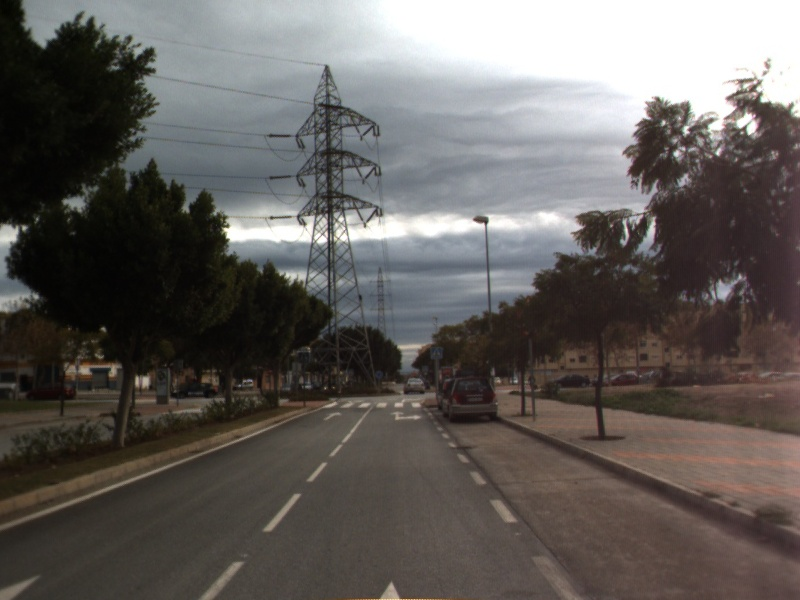STRAIGHT: (321, 409, 345, 422)
STRAIGHT_RIGHT: (388, 409, 424, 422)
